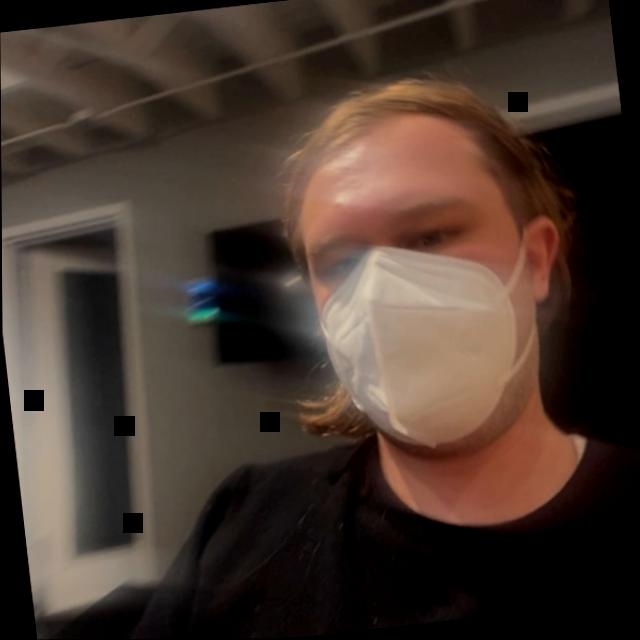Mask: (207, 52, 640, 540)
